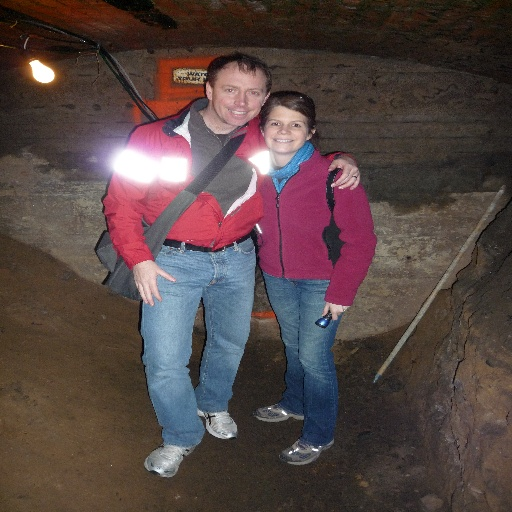hand: (130, 258, 177, 306), (336, 149, 371, 197), (320, 302, 352, 322)
